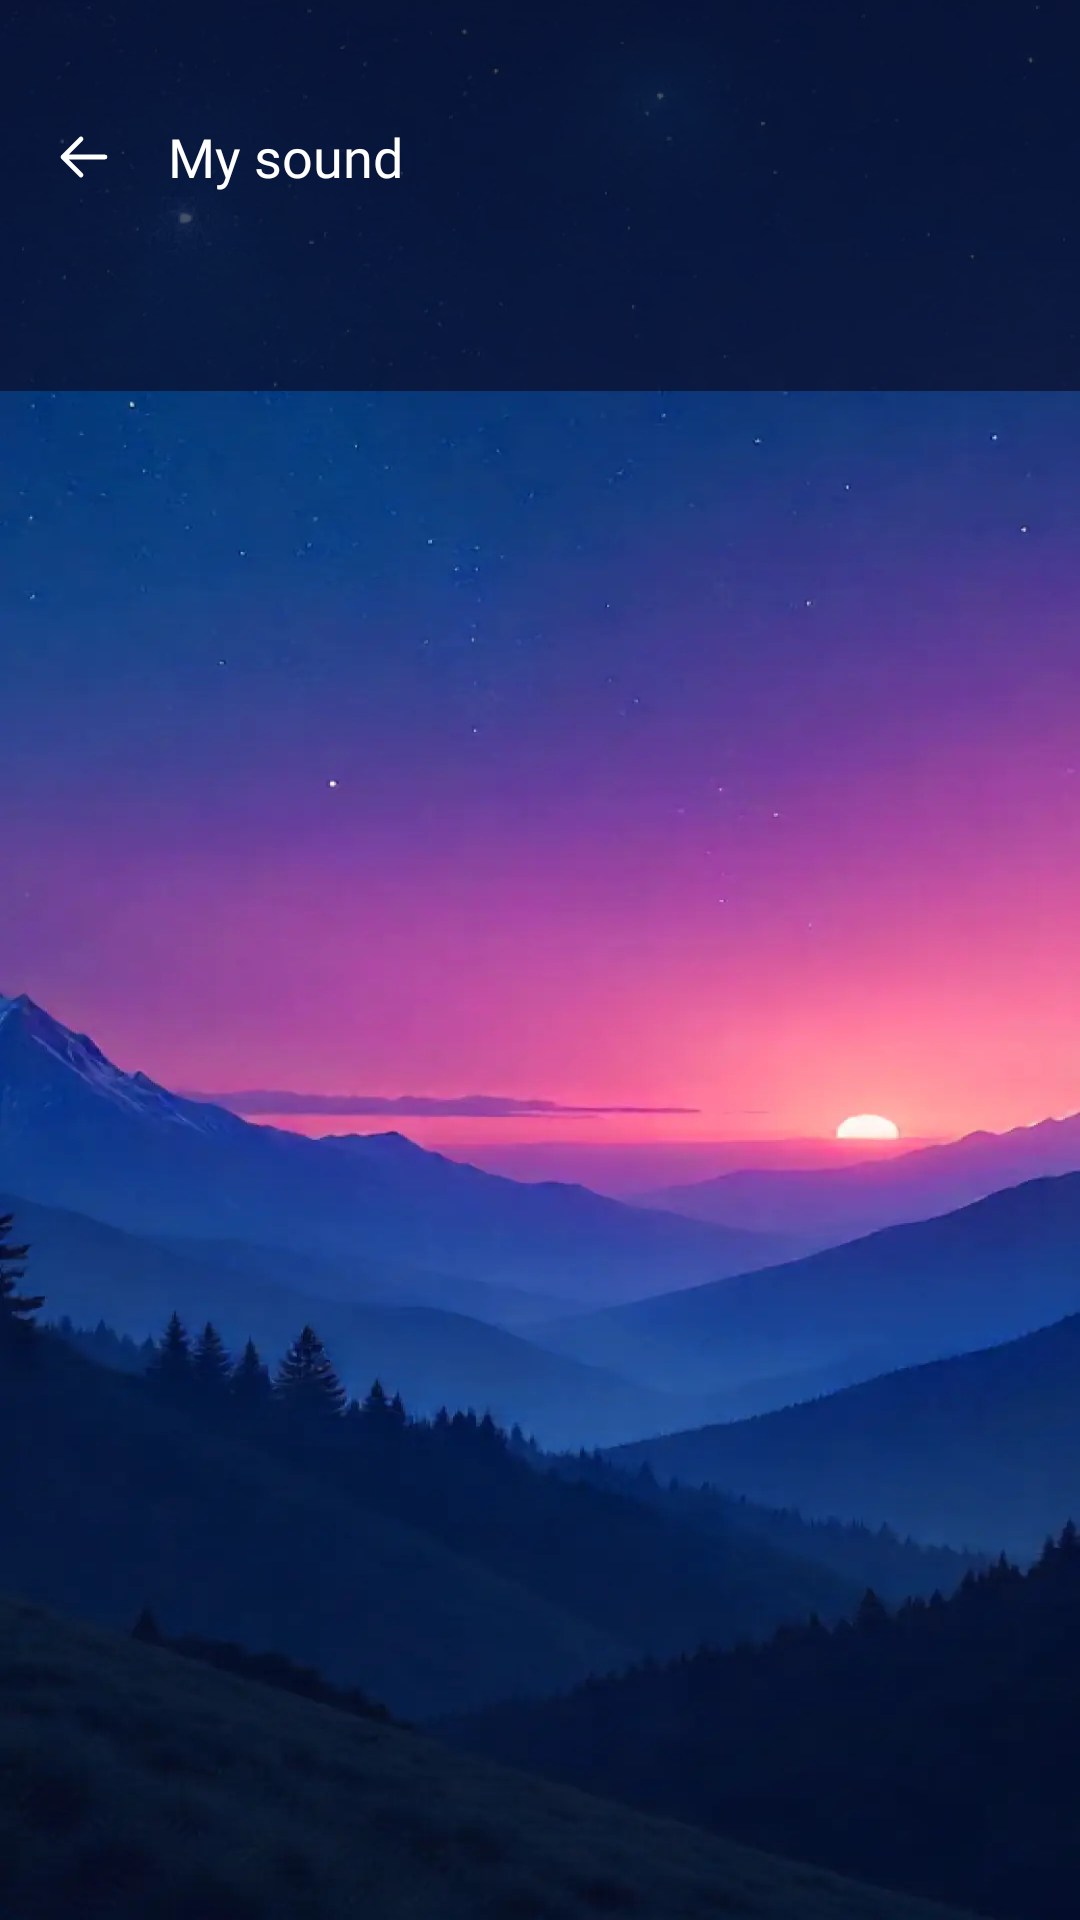

Icons on this 1080×1920 Android screen, each with its box as (x1,y1,x2,y2):
back: (60,136,108,178)
